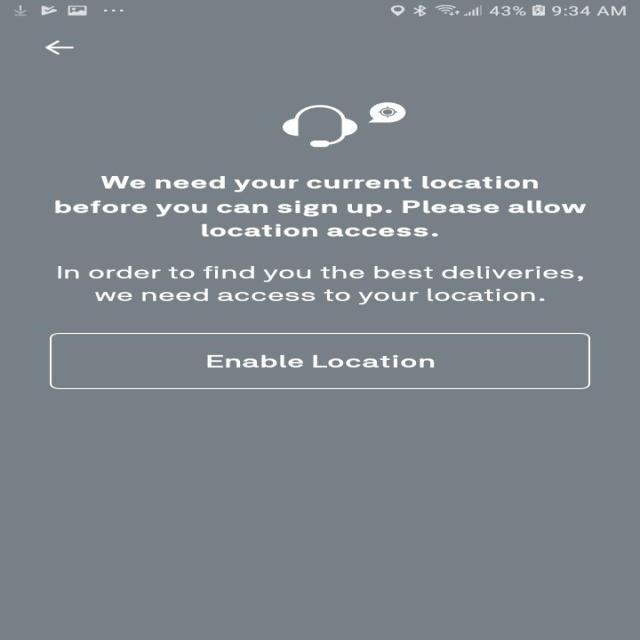Icon: (367, 101, 406, 123), (43, 39, 73, 54)
Image: (280, 104, 358, 148)
Text: (54, 175, 586, 237), (57, 265, 583, 305)
TextButton: (48, 332, 590, 390)
